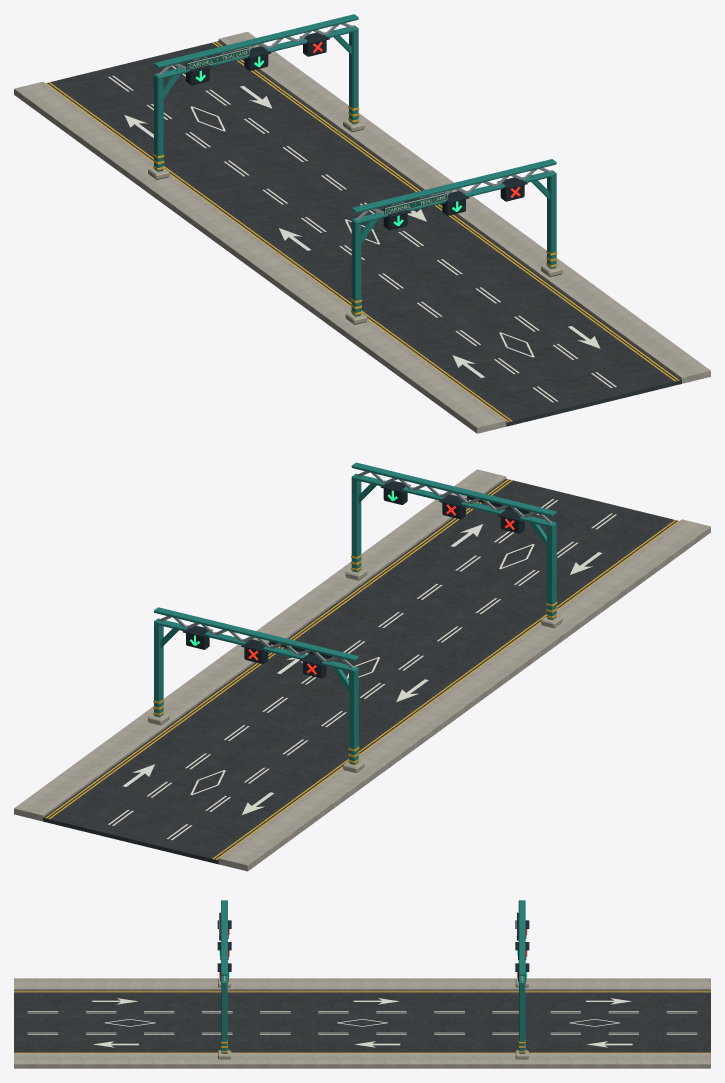
The picture shows the model from 3 angles, top to bottom: view 1: azimuth 30°, elevation 25°; view 2: azimuth 150°, elevation 25°; view 3: azimuth 270°, elevation 25°; orthographic projection. The views are drawn at different scales.
Parts seen in each view (by area): view 1: Three lane wearing course, Service footways, Portal chords, Portal columns, Yellow kerbside lines, Variable signal heads, Broken tidal dividers, Direction arrows, Enamel nameplates, Warren portal web, Portal foundations, Portal haunch; view 2: Three lane wearing course, Service footways, Portal chords, Portal columns, Yellow kerbside lines, Variable signal heads, Broken tidal dividers, Warren portal web, Direction arrows, Portal foundations, Rain visors, Portal haunch; view 3: Three lane wearing course, Service footways, Yellow kerbside lines, Broken tidal dividers, Portal chords, Portal columns, Direction arrows, Rain visors, Reversible lane lozenges, Portal foundations.
Boxes of the visible parts, bbox=[...] form: Three lane wearing course: bbox=[47, 41, 681, 426]; Service footways: bbox=[14, 31, 710, 433]; Portal chords: bbox=[154, 14, 556, 224]; Portal columns: bbox=[154, 25, 556, 316]; Yellow kerbside lines: bbox=[45, 41, 679, 422]; Variable signal heads: bbox=[186, 33, 524, 229]; Broken tidal dividers: bbox=[108, 65, 616, 402]; Direction arrows: bbox=[124, 86, 600, 377]; Enamel nameplates: bbox=[186, 47, 447, 214]; Warren portal web: bbox=[158, 23, 551, 219]; Portal foundations: bbox=[148, 120, 562, 324]; Portal haunch: bbox=[163, 30, 549, 244]; Three lane wearing course: bbox=[43, 479, 677, 864]; Service footways: bbox=[14, 469, 710, 871]; Portal chords: bbox=[154, 462, 556, 672]; Portal columns: bbox=[154, 473, 556, 764]; Yellow kerbside lines: bbox=[45, 479, 678, 859]; Variable signal heads: bbox=[186, 482, 524, 678]; Broken tidal dividers: bbox=[108, 499, 616, 839]; Warren portal web: bbox=[158, 471, 552, 668]; Direction arrows: bbox=[122, 524, 601, 814]; Portal foundations: bbox=[148, 568, 562, 772]; Rain visors: bbox=[182, 481, 527, 665]; Portal haunch: bbox=[160, 479, 546, 692]; Three lane wearing course: bbox=[14, 990, 710, 1052]; Service footways: bbox=[14, 978, 710, 1068]; Yellow kerbside lines: bbox=[14, 991, 710, 1053]; Broken tidal dividers: bbox=[27, 1011, 697, 1034]; Portal chords: bbox=[221, 900, 525, 983]; Portal columns: bbox=[221, 980, 525, 1053]; Direction arrows: bbox=[92, 998, 632, 1047]; Rain visors: bbox=[217, 920, 529, 971]; Reversible lane lozenges: bbox=[105, 1019, 619, 1026]; Portal foundations: bbox=[218, 978, 528, 1059].
Size of the model in its own units: 14 by 6.75 by 48.
Materials: 15 (2 with a texture image).
